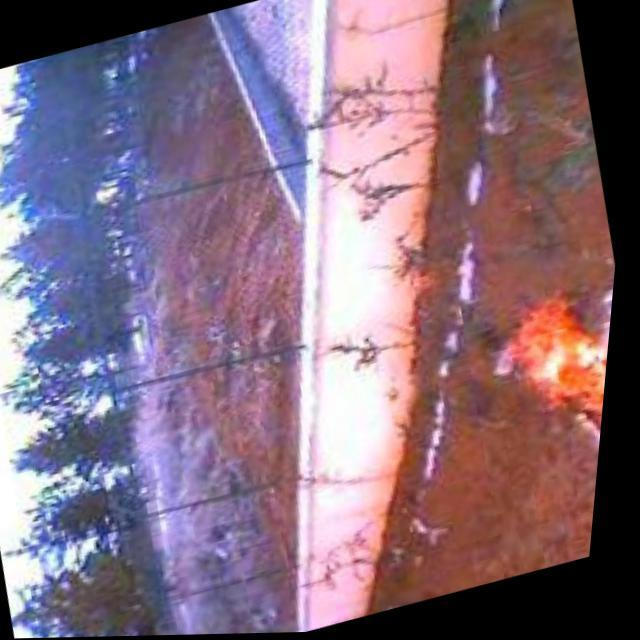fire: (488, 280, 620, 468)
